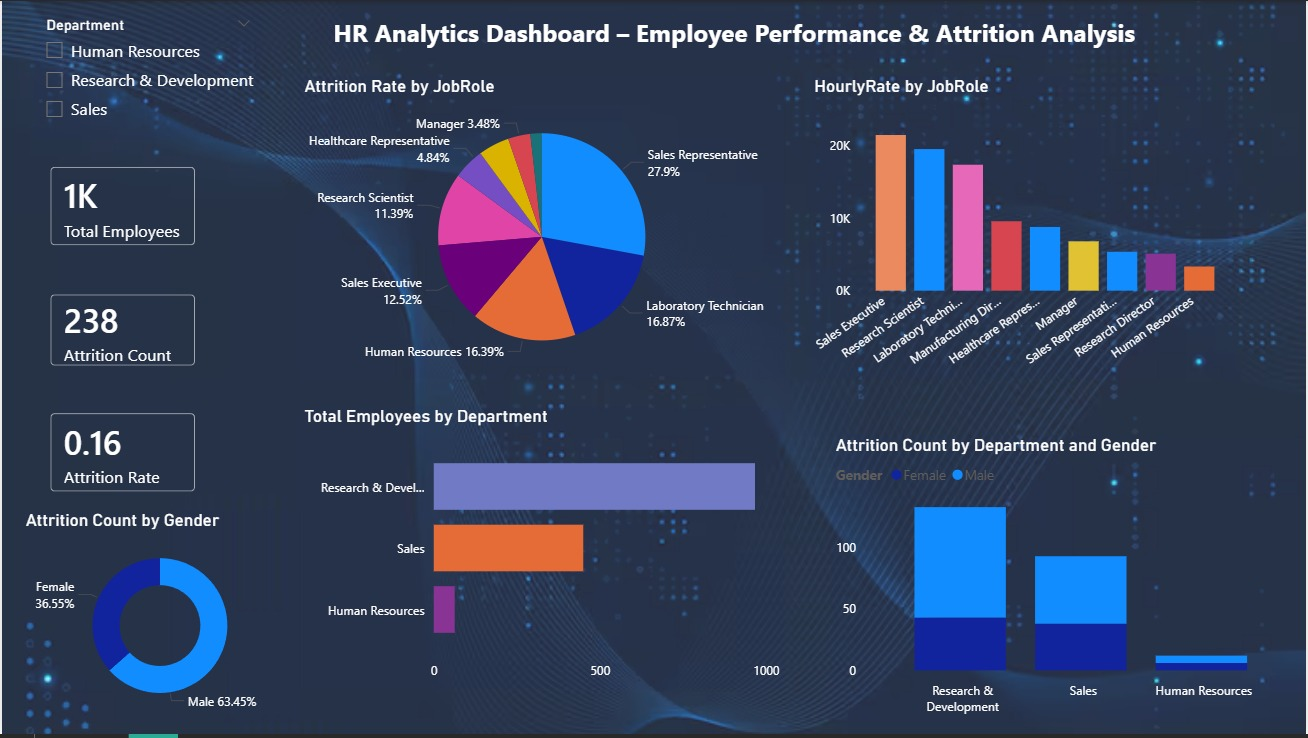

The dashboard page shown, as its layout file describes it:
{"tool":"powerbi","page":{"name":"Page 1","canvas":[1280,720],"ordinal":0},"visuals":[{"type":"cardVisual","fields":{"Data":["HR_Analytics.Attrition Count"]},"box":[30.7,271.2,176.7,104.3],"z":0},{"type":"textbox","box":[320.2,9.8,803.7,47.9],"z":1000},{"type":"cardVisual","fields":{"Data":["HR_Analytics.Attrition Rate"]},"box":[30.7,387.7,176.7,111.7],"z":2000},{"type":"cardVisual","fields":{"Data":["HR_Analytics.Total Employees"]},"box":[30.7,146,176.7,111.7],"z":3000},{"type":"clusteredBarChart","fields":{"Category":["HR_Analytics.Department"],"Y":["HR_Analytics.Total Employees"]},"box":[292,397.5,476.1,278.5],"z":4000},{"type":"columnChart","fields":{"Category":["HR_Analytics.Department"],"Series":["HR_Analytics.Gender"],"Y":["HR_Analytics.Attrition Count"]},"box":[813.5,425.8,466.3,282.2],"z":5000},{"type":"slicer","fields":{"Values":["HR_Analytics.Department"]},"box":[30.7,9.8,225.8,126.4],"z":6000},{"type":"columnChart","title":"HourlyRate by JobRole","fields":{"Category":["HR_Analytics.JobRole"],"Y":["Sum(HR_Analytics.HourlyRate)"]},"box":[792.6,73.6,418.4,296.9],"z":7000},{"type":"pieChart","fields":{"Y":["HR_Analytics.Attrition Rate"],"Category":["HR_Analytics.JobRole"]},"box":[292,73.6,476.1,296.9],"z":8000},{"type":"donutChart","fields":{"Category":["HR_Analytics.Gender"],"Y":["HR_Analytics.Attrition Count"]},"box":[18.4,499.4,273.6,208.6],"z":9000}]}

Visuals, with their boxes in screenshot pixels (x1, y1, x2, y2), scaled from the page's 1280x720 canvas onto the 1308x738 screenshot:
cardVisual - HR_Analytics.Attrition Count: [x1=31, y1=278, x2=212, y2=385]
textbox: [x1=327, y1=10, x2=1148, y2=59]
cardVisual - HR_Analytics.Attrition Rate: [x1=31, y1=397, x2=212, y2=512]
cardVisual - HR_Analytics.Total Employees: [x1=31, y1=150, x2=212, y2=264]
clusteredBarChart - HR_Analytics.Department x HR_Analytics.Total Employees: [x1=298, y1=407, x2=785, y2=693]
columnChart - HR_Analytics.Department x HR_Analytics.Gender: [x1=831, y1=436, x2=1307, y2=726]
slicer - HR_Analytics.Department: [x1=31, y1=10, x2=262, y2=140]
"HourlyRate by JobRole" columnChart: [x1=810, y1=75, x2=1237, y2=380]
pieChart - HR_Analytics.Attrition Rate x HR_Analytics.JobRole: [x1=298, y1=75, x2=785, y2=380]
donutChart - HR_Analytics.Gender x HR_Analytics.Attrition Count: [x1=19, y1=512, x2=298, y2=726]
